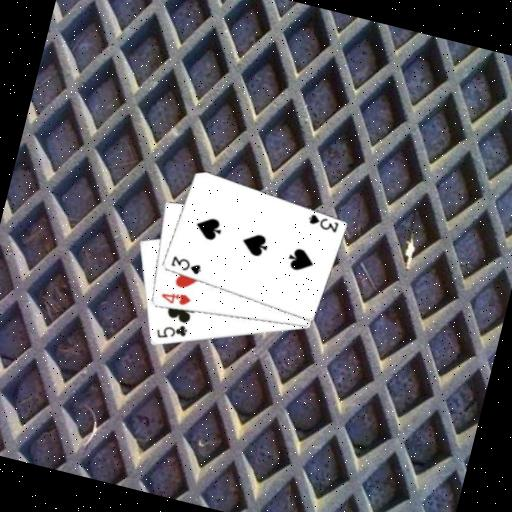3S: (167, 252, 205, 277), (303, 211, 341, 235)
4H: (157, 286, 193, 310)
5C: (152, 317, 190, 346)
